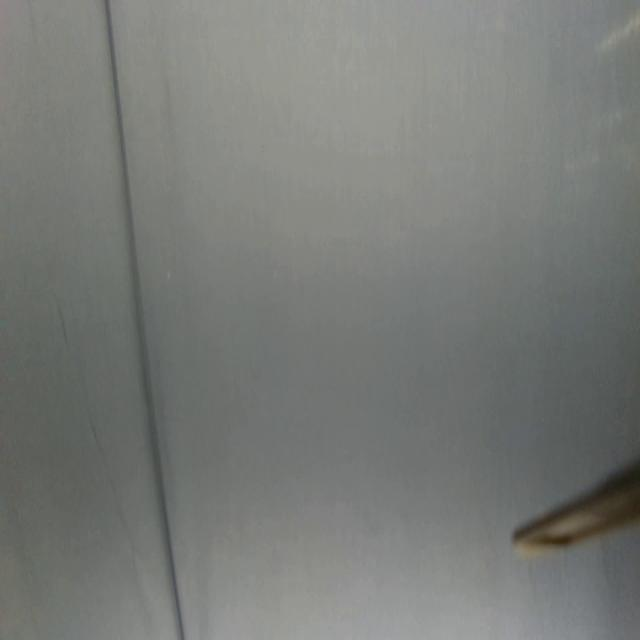crease: (105, 1, 185, 640), (57, 301, 128, 529)
